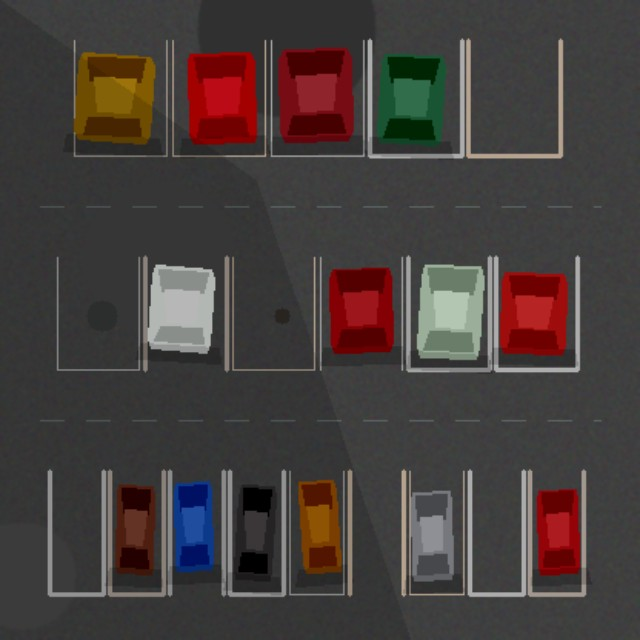space-empty: (468, 40, 560, 155), (232, 257, 314, 369), (57, 257, 138, 369), (49, 471, 103, 594), (349, 471, 403, 594), (469, 471, 523, 594)
space-occupied: (172, 40, 265, 155), (369, 40, 462, 155), (74, 40, 166, 155), (271, 40, 363, 155), (320, 257, 402, 369), (495, 257, 577, 369), (145, 257, 226, 369), (408, 257, 489, 369), (109, 471, 163, 594), (169, 471, 223, 594), (229, 471, 283, 594), (289, 471, 343, 594), (409, 471, 463, 594), (529, 471, 583, 594)
